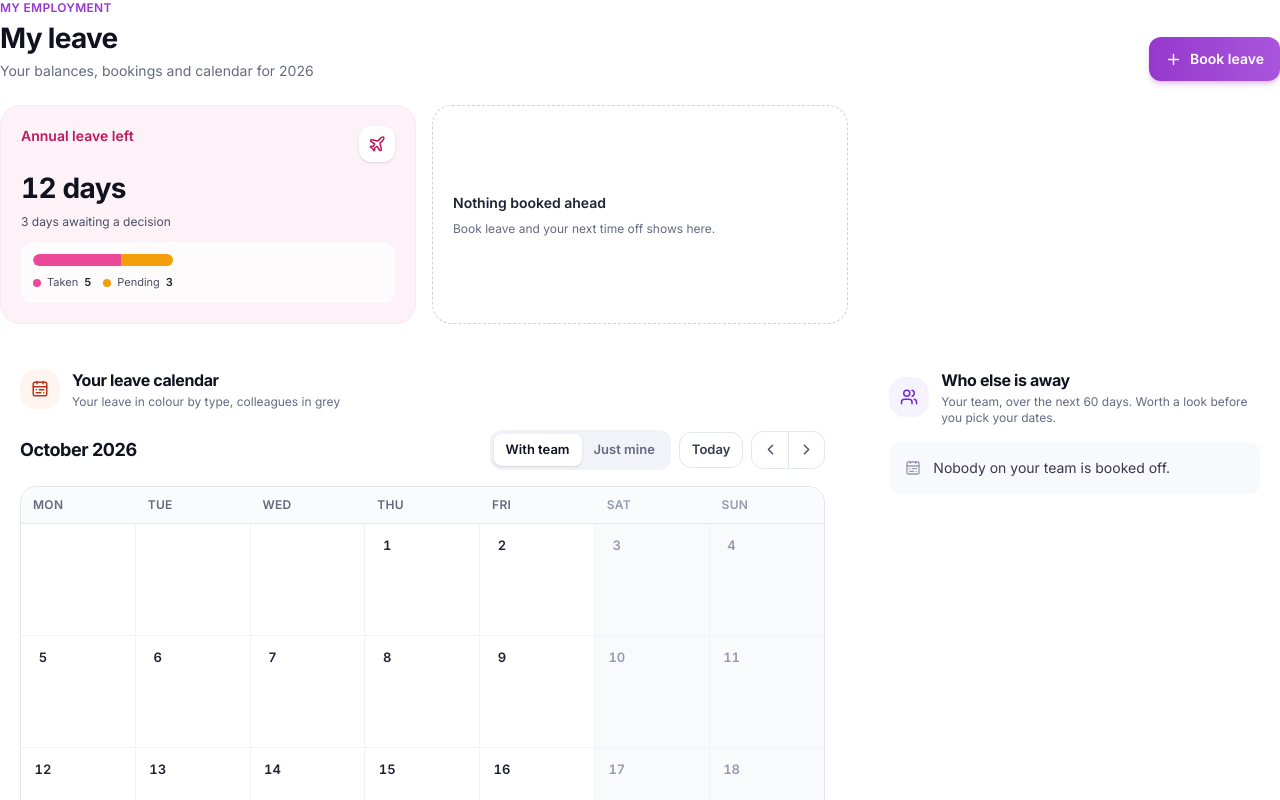
Test: MyLeave › booking › names who the booking goes to
Click the button "Book leave" at [1215, 59], box [1149, 37, 1279, 81]
(page scrolled)
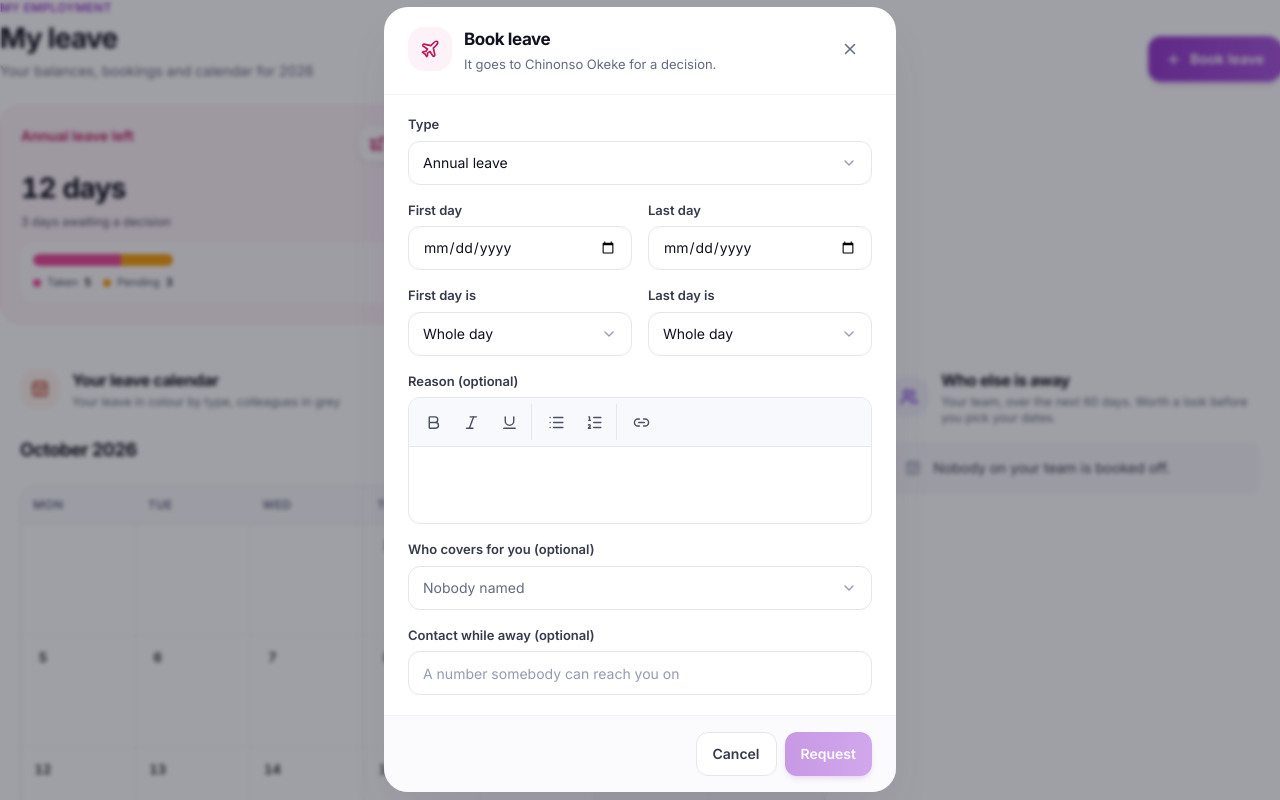
Check: the dialog "Book leave" is shown, box [384, 7, 896, 792]
Check: the dialog "Book leave" shows "It goes to Chinonso Okeke for a decision.", box [464, 56, 716, 72]
